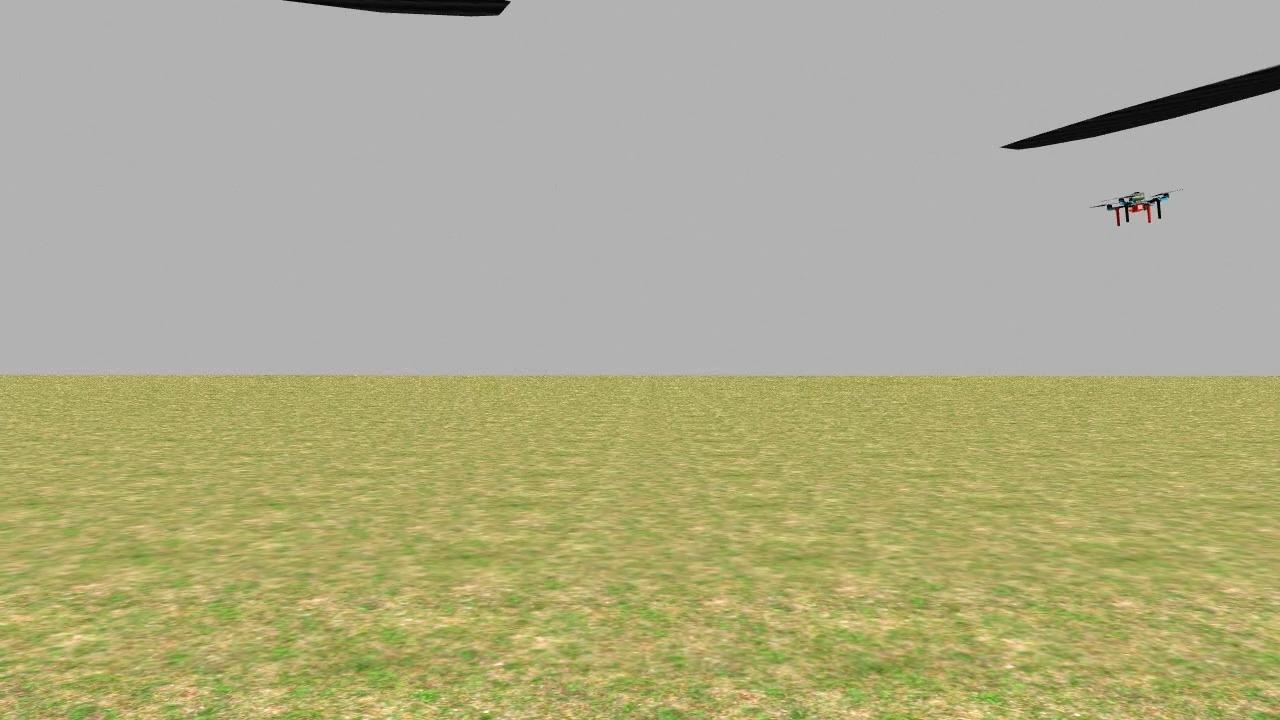UAV: (1088, 175, 1191, 244)
